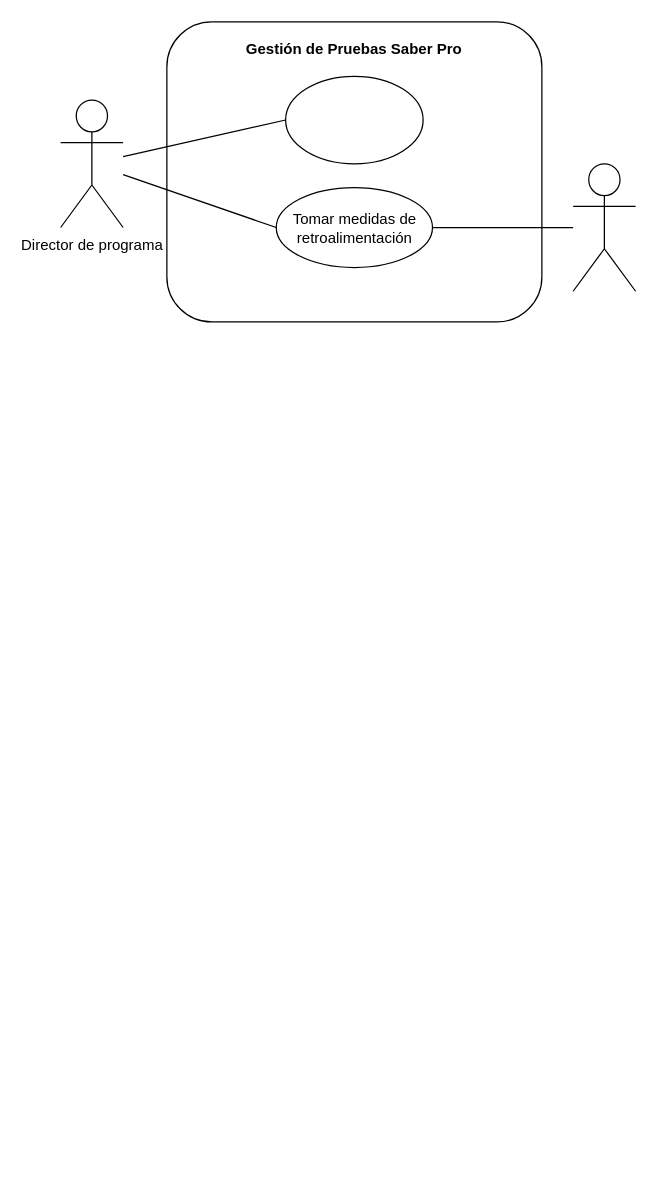
This 669x1204 diagram has some shape labels left out. Here are the shapes that lost their labels. From the top down, the box of each, then its label:
(284, 75, 423, 164): Evaluar los resultados
(572, 162, 636, 291): Coordinador
